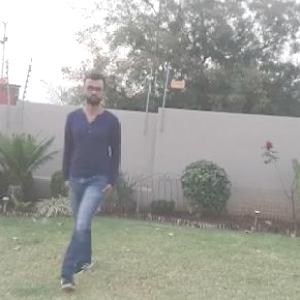follow: (67, 61, 148, 296)
